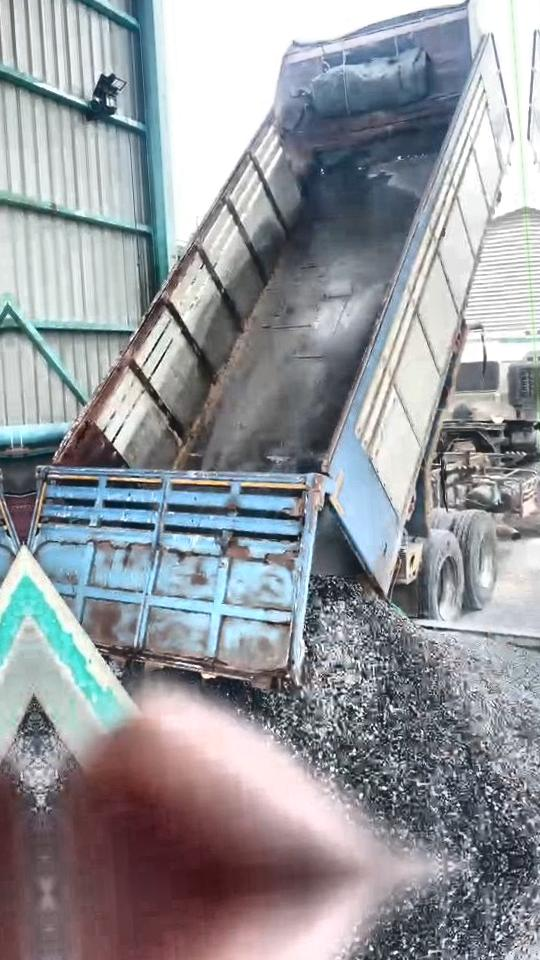gravel: (218, 578, 540, 864), (35, 721, 59, 787)
